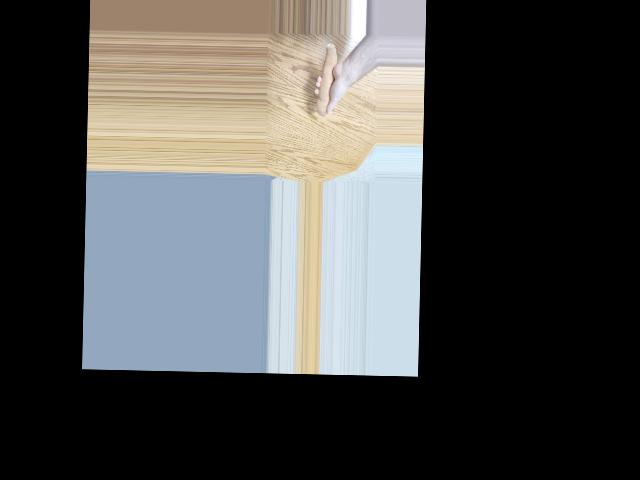sweet_potato: (313, 43, 339, 115)
